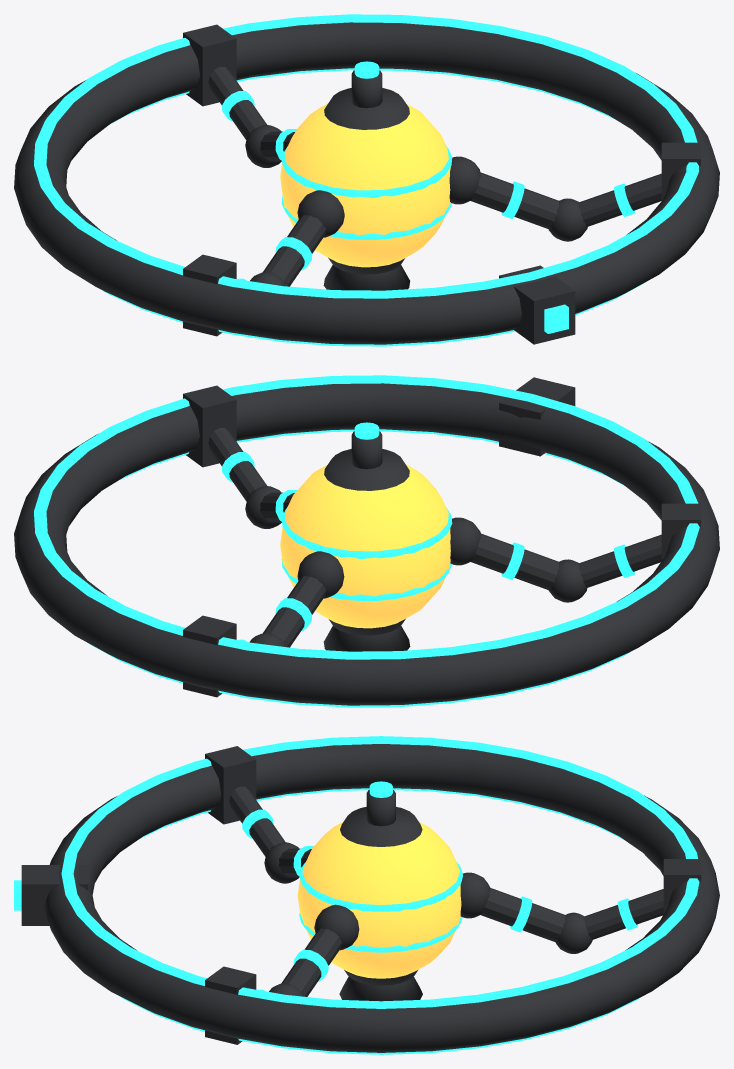
File: mender.glb
3 views of the same model, one above another, from view 1: azimuth 30°, elevation 25°; view 2: azimuth 150°, elevation 25°; view 3: azimuth 270°, elevation 25° (orthographic). The views are drawn at different scales.
Parts seen in each view (by area): view 1: Halo_Ring, Core_Energy, Halo_Seam_Top, Halo_FwdNotch, Arm1_HaloClamp, Core_Shell_Top, Arm3_Upper, Halo_Seam_Bot, Arm3_Fore, Arm2_Upper, Core_Emitter, Arm1_Fore (+11 smaller); view 2: Halo_Ring, Core_Energy, Halo_Seam_Top, Arm3_HaloClamp, Core_Shell_Top, Arm2_Upper, Halo_Seam_Bot, Arm2_Fore, Halo_FwdNotch, Arm1_Upper, Core_Emitter, Arm3_Fore (+10 smaller); view 3: Halo_Ring, Core_Energy, Halo_Seam_Top, Arm2_HaloClamp, Core_Shell_Top, Halo_FwdNotch, Arm1_Upper, Halo_Seam_Bot, Arm1_Fore, Arm3_Upper, Arm2_Fore, Core_Emitter (+10 smaller).
Boxes of the visible parts, bbox=[...] form: Halo_Ring: bbox=[14, 22, 719, 344]; Core_Energy: bbox=[280, 103, 450, 267]; Halo_Seam_Top: bbox=[34, 14, 698, 298]; Halo_FwdNotch: bbox=[499, 265, 575, 344]; Arm1_HaloClamp: bbox=[183, 24, 236, 106]; Core_Shell_Top: bbox=[324, 88, 409, 129]; Arm3_Upper: bbox=[471, 172, 559, 229]; Halo_Seam_Bot: bbox=[102, 68, 645, 346]; Arm3_Fore: bbox=[578, 173, 661, 226]; Arm2_Upper: bbox=[263, 215, 326, 286]; Core_Emitter: bbox=[323, 264, 410, 290]; Arm1_Fore: bbox=[208, 67, 266, 139]; Halo_Ring: bbox=[14, 383, 719, 705]; Core_Energy: bbox=[280, 464, 450, 628]; Halo_Seam_Top: bbox=[34, 375, 699, 659]; Arm3_HaloClamp: bbox=[183, 385, 236, 467]; Core_Shell_Top: bbox=[324, 449, 409, 490]; Arm2_Upper: bbox=[471, 533, 559, 590]; Halo_Seam_Bot: bbox=[88, 429, 631, 707]; Arm2_Fore: bbox=[578, 534, 661, 587]; Halo_FwdNotch: bbox=[499, 377, 575, 456]; Arm1_Upper: bbox=[263, 576, 326, 647]; Core_Emitter: bbox=[323, 625, 410, 651]; Arm3_Fore: bbox=[208, 428, 266, 501]; Halo_Ring: bbox=[44, 744, 719, 1052]; Core_Energy: bbox=[297, 821, 461, 978]; Halo_Seam_Top: bbox=[61, 736, 699, 1008]; Arm2_HaloClamp: bbox=[205, 746, 256, 824]; Core_Shell_Top: bbox=[340, 807, 422, 846]; Halo_FwdNotch: bbox=[21, 865, 88, 925]; Arm1_Upper: bbox=[481, 888, 565, 942]; Halo_Seam_Bot: bbox=[120, 788, 641, 1054]; Arm1_Fore: bbox=[584, 889, 663, 939]; Arm3_Upper: bbox=[281, 928, 341, 996]; Arm2_Fore: bbox=[229, 786, 285, 856]; Core_Emitter: bbox=[339, 976, 422, 1001].
Bounding box in the file's own units: 1.92 × 0.6635 × 2.
